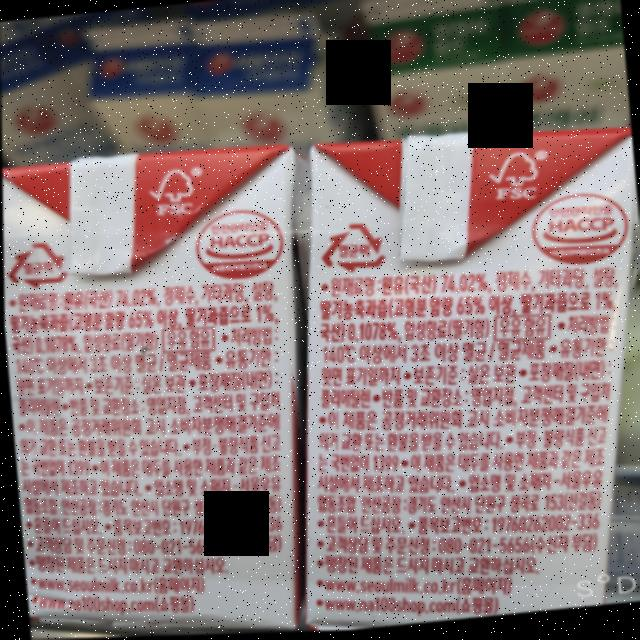SterilizedPack: (314, 220, 385, 279)
